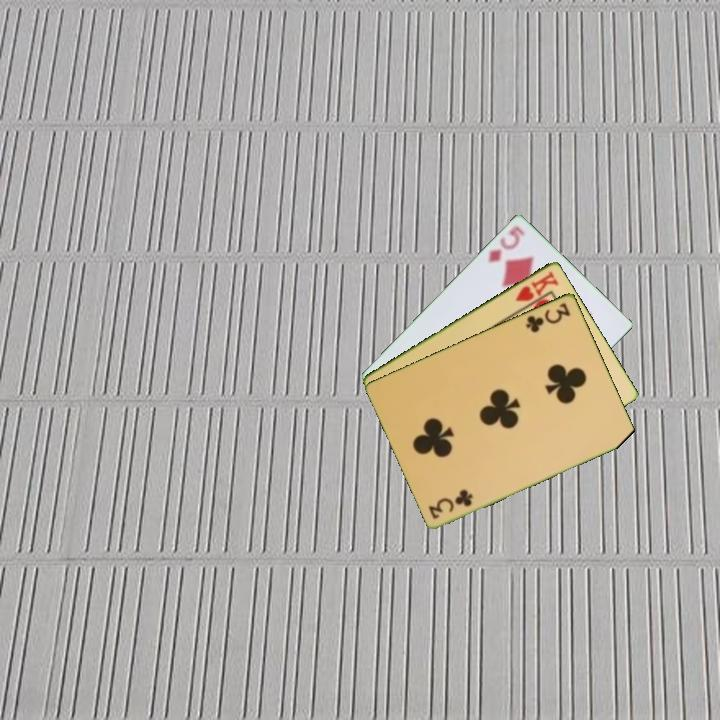3c: (522, 299, 573, 335), (425, 487, 476, 522)
5d: (484, 222, 528, 265)
Kh: (512, 267, 562, 304)
